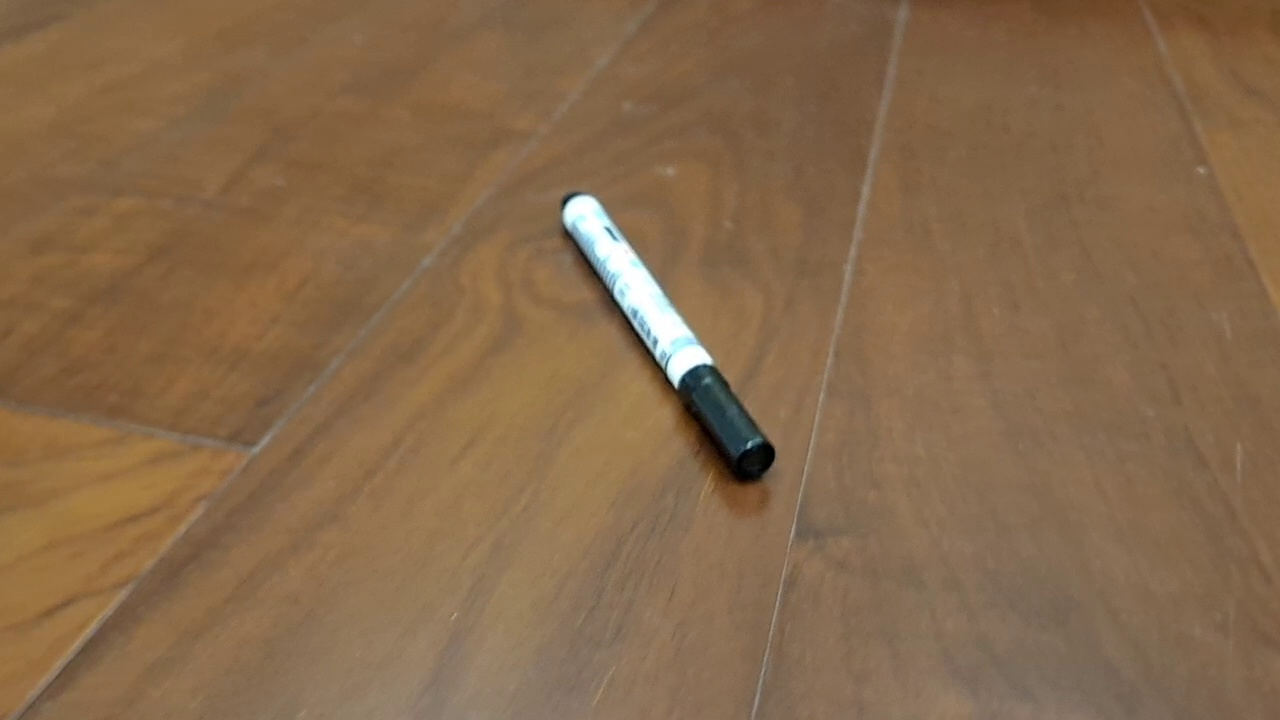pen: (559, 190, 778, 484)
